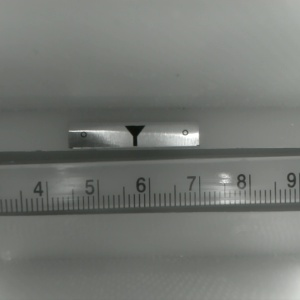4: (32, 181, 43, 196)
5: (85, 180, 94, 195)
6: (134, 177, 145, 193)
7: (185, 176, 195, 191)
8: (236, 174, 246, 188)
9: (286, 172, 296, 188)
finger: (123, 126, 145, 147)
